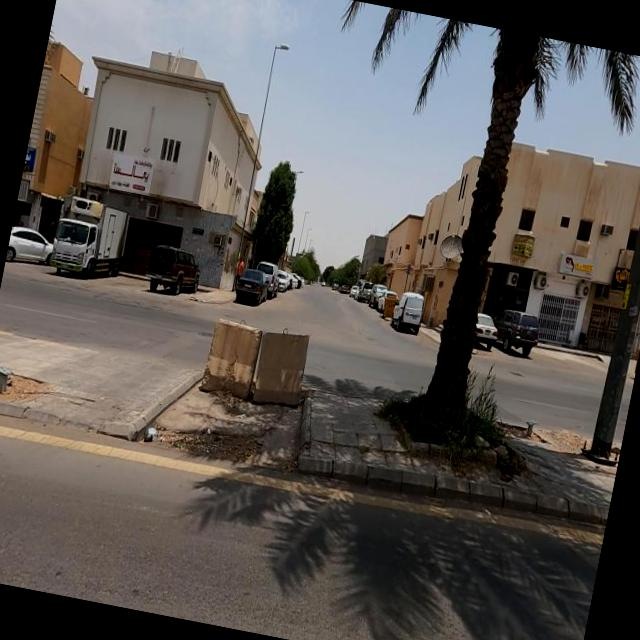debris: (128, 398, 176, 468)
